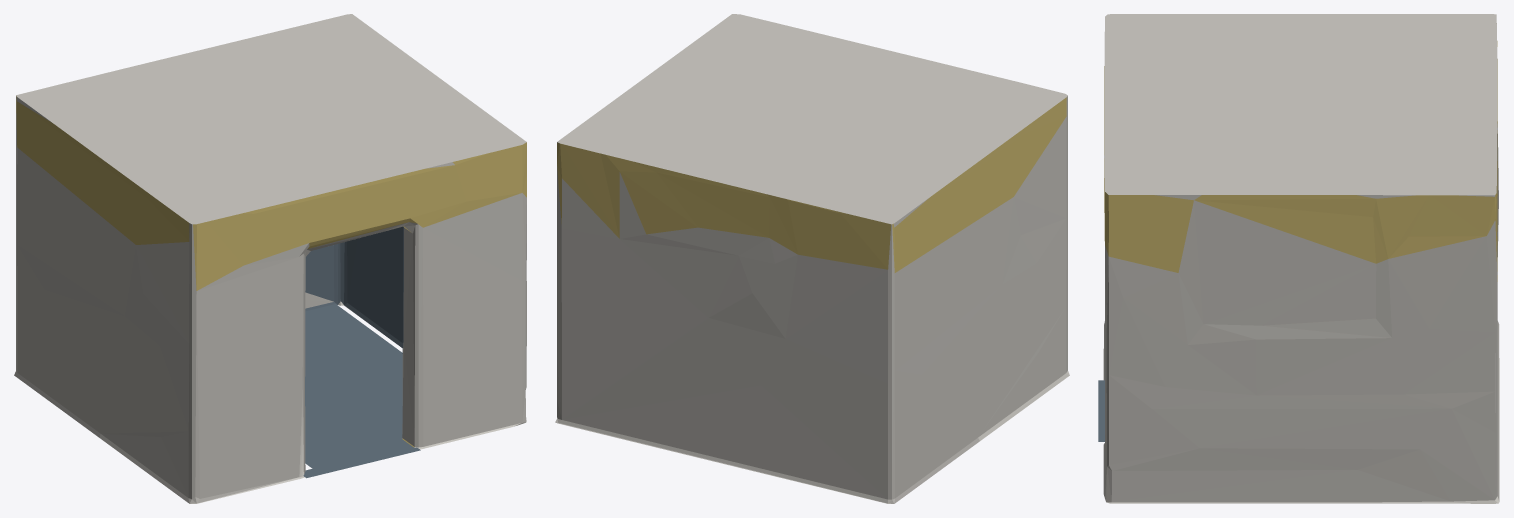
The model's file is etape-1.glb.
The picture shows the model from 3 angles, left to right: view 1: azimuth 30°, elevation 25°; view 2: azimuth 150°, elevation 25°; view 3: azimuth 270°, elevation 25°; orthographic projection. The views are drawn at different scales.
Parts seen in each view (by area): view 1: geometry_0; view 2: geometry_0; view 3: geometry_0.
Part boxes in pixels (left/top/right/bottom): geometry_0: left=14, top=14, right=526, bottom=503; geometry_0: left=555, top=14, right=1069, bottom=503; geometry_0: left=1098, top=14, right=1499, bottom=503.
Bounding box in the file's own units: 0.6826 × 0.5375 × 0.6342.
